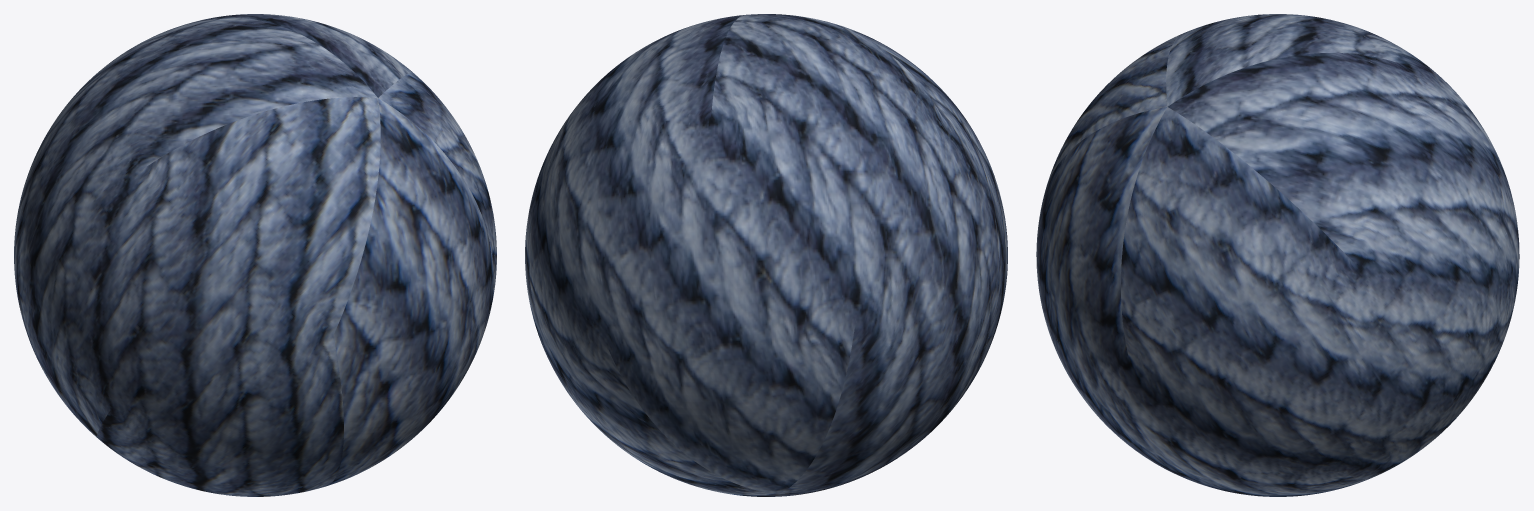
The model's file is ball2.obj.
The picture shows the model from 3 angles, left to right: view 1: azimuth 30°, elevation 25°; view 2: azimuth 150°, elevation 25°; view 3: azimuth 270°, elevation 25°; orthographic projection.
Parts seen in each view (by area): view 1: Icosphere.001; view 2: Icosphere.001; view 3: Icosphere.001.
Part boxes in pixels (x1,y1,x2,y2): Icosphere.001: (14, 14, 496, 496); Icosphere.001: (525, 14, 1007, 496); Icosphere.001: (1036, 14, 1519, 496).
Size of the model in its own units: 0.9999 by 1 by 0.9999.
Materials: 1 (1 with a texture image).
